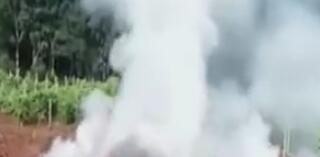smoke: (42, 0, 320, 154)
